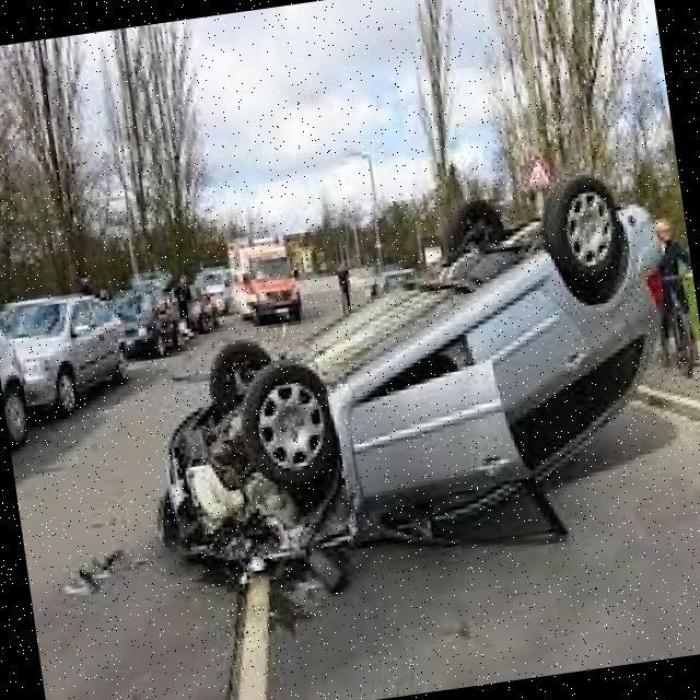Accident: (51, 140, 700, 643)
